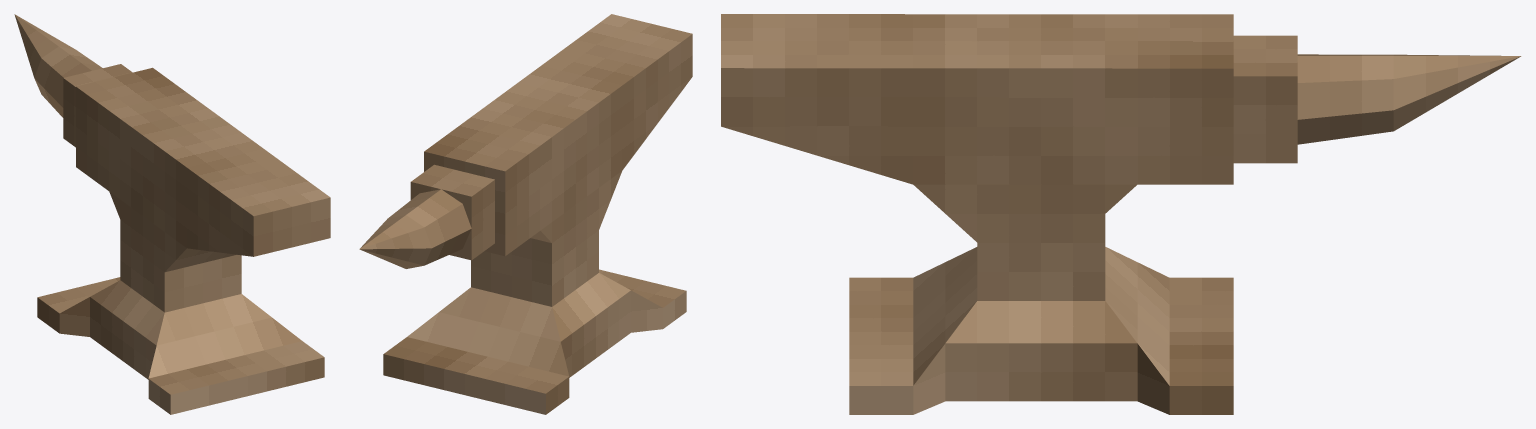
The model's file is bismuth_bronze_anvil.obj.
3 views of the same model, side by side, from view 1: azimuth 30°, elevation 25°; view 2: azimuth 150°, elevation 25°; view 3: azimuth 270°, elevation 25° (orthographic). The views are drawn at different scales.
Visible parts, largest first — view 1: Left, Top, Back; view 2: Left, Top, Front; view 3: Right, Top, Front, Back.
Part boxes in pixels (x1=…): Left: x1=15, y1=15, x2=253, y2=414; Top: x1=14, y1=14, x2=330, y2=394; Back: x1=148, y1=197, x2=330, y2=414; Left: x1=360, y1=34, x2=692, y2=414; Top: x1=360, y1=14, x2=692, y2=393; Front: x1=383, y1=151, x2=569, y2=414; Right: x1=721, y1=56, x2=1520, y2=414; Top: x1=721, y1=14, x2=1520, y2=385; Front: x1=1105, y1=247, x2=1169, y2=385; Back: x1=913, y1=247, x2=977, y2=385.
Size of the model in its own units: 0.5 by 0.6885 by 1.56.
